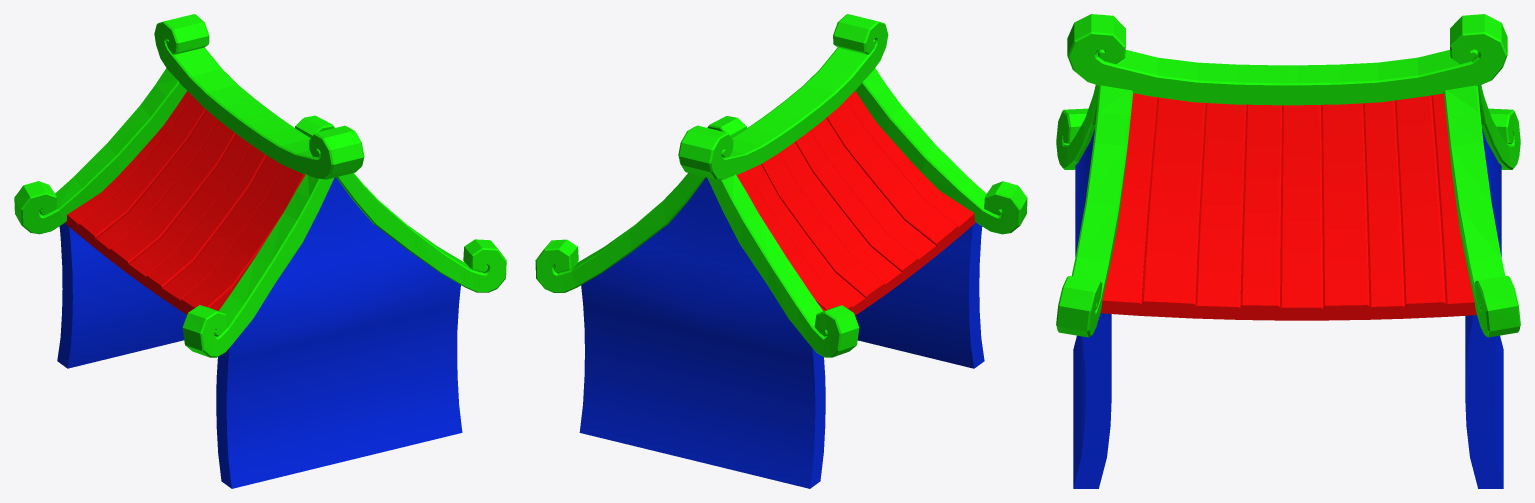
The model's file is Gate.fbx.
The picture shows the model from 3 angles, left to right: view 1: azimuth 30°, elevation 25°; view 2: azimuth 150°, elevation 25°; view 3: azimuth 270°, elevation 25°; orthographic projection. The views are drawn at different scales.
Parts seen in each view (by area): view 1: Gate; view 2: Gate; view 3: Gate.
Part boxes in pixels (x1,y1,x2,y2): Gate: (14,14,506,488); Gate: (535,14,1027,488); Gate: (1056,14,1520,488).
Size of the model in its own units: 529 by 511 by 544.
